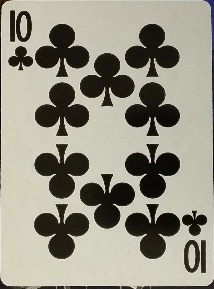C0: (8, 9, 34, 72), (182, 208, 207, 273)
